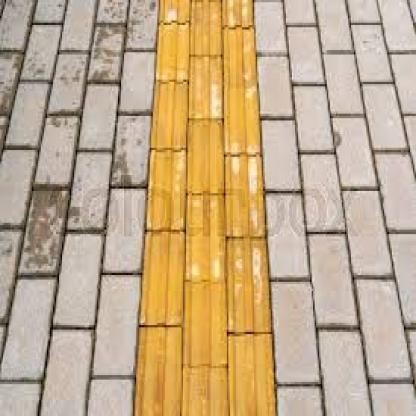podotacti: (128, 0, 285, 416)
